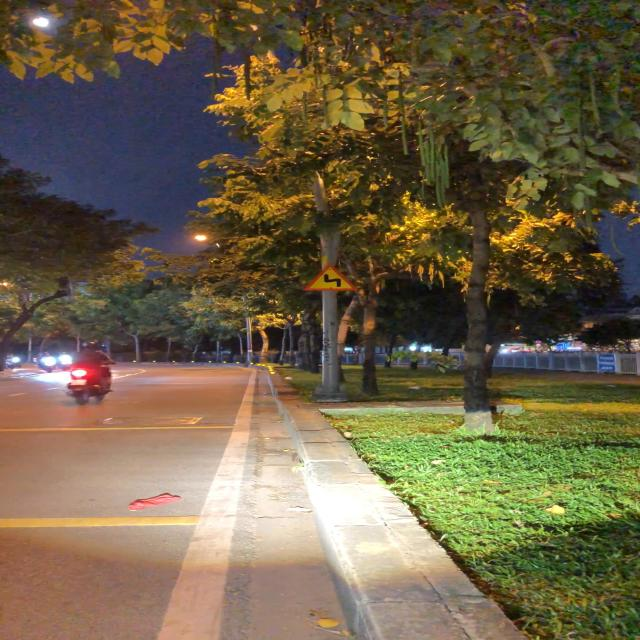Bien bao nhieu cho ngoat nguy hiem lien tiep: (301, 261, 359, 293)
